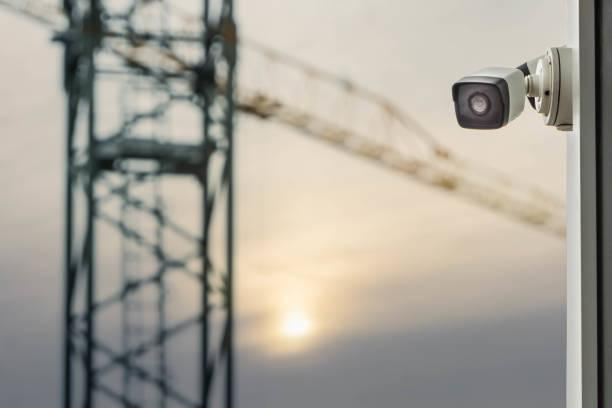camera: (413, 52, 540, 154)
